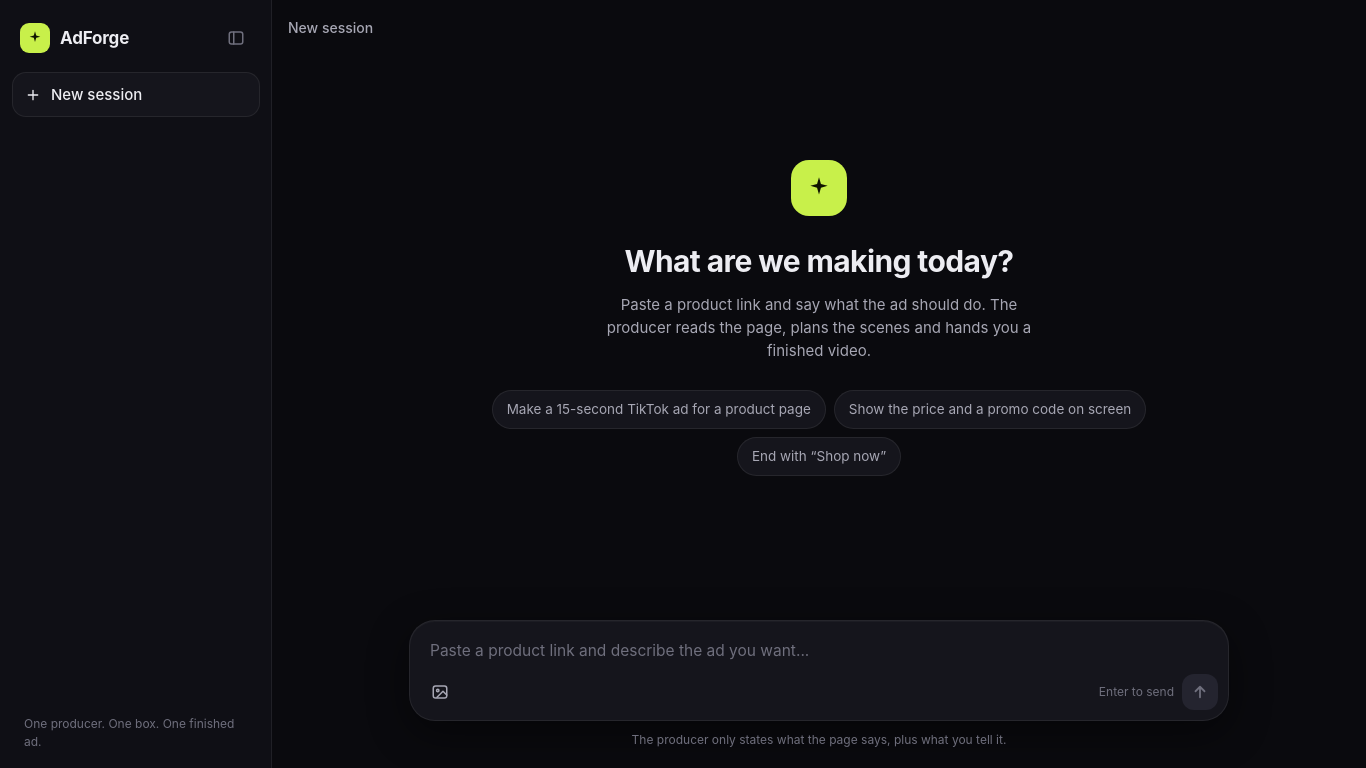
it: shows a scene's clip as it is made, after the notice that it started
Type "Make scene 1's clip" into the text box named "Message" at (819, 645), box [410,621,1228,668]
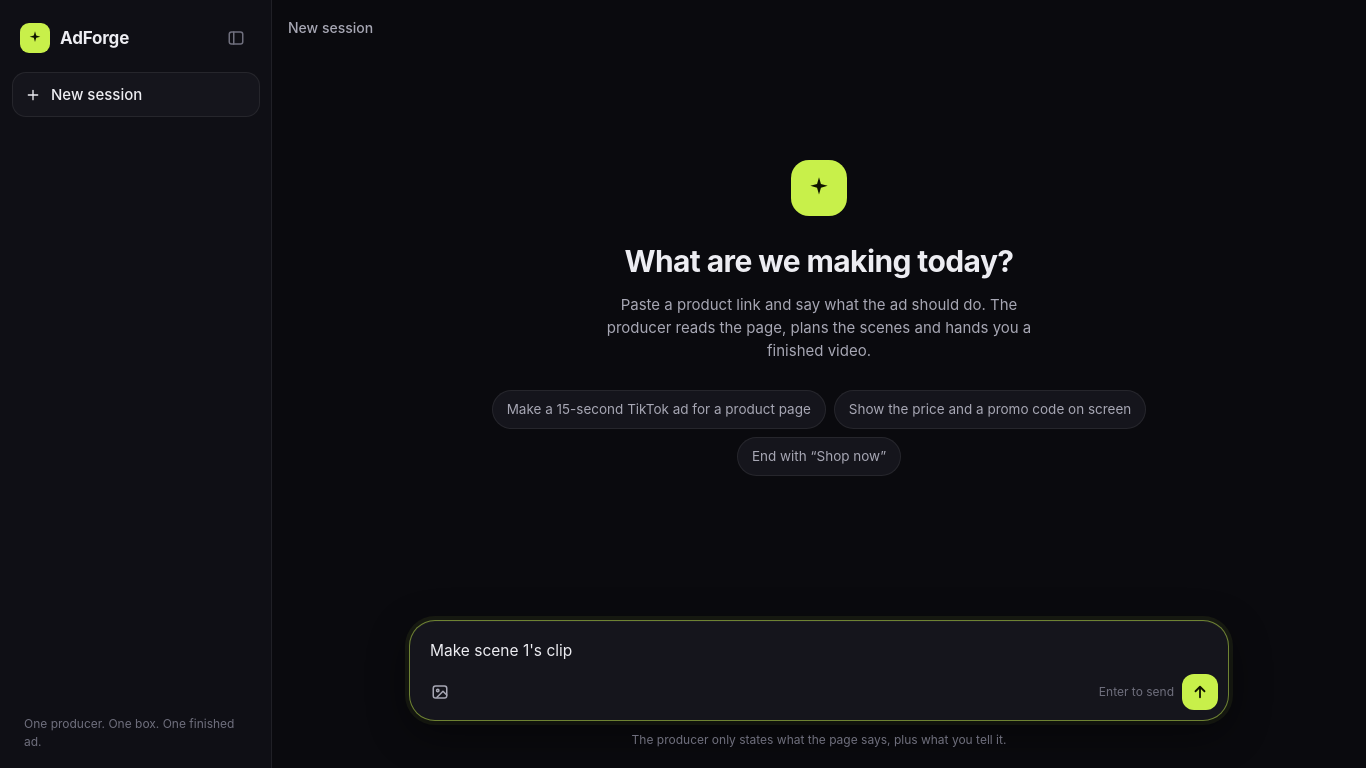
Click the button named "Send" at (1200, 692), box [1182,674,1218,710]
Wait 2000 ms
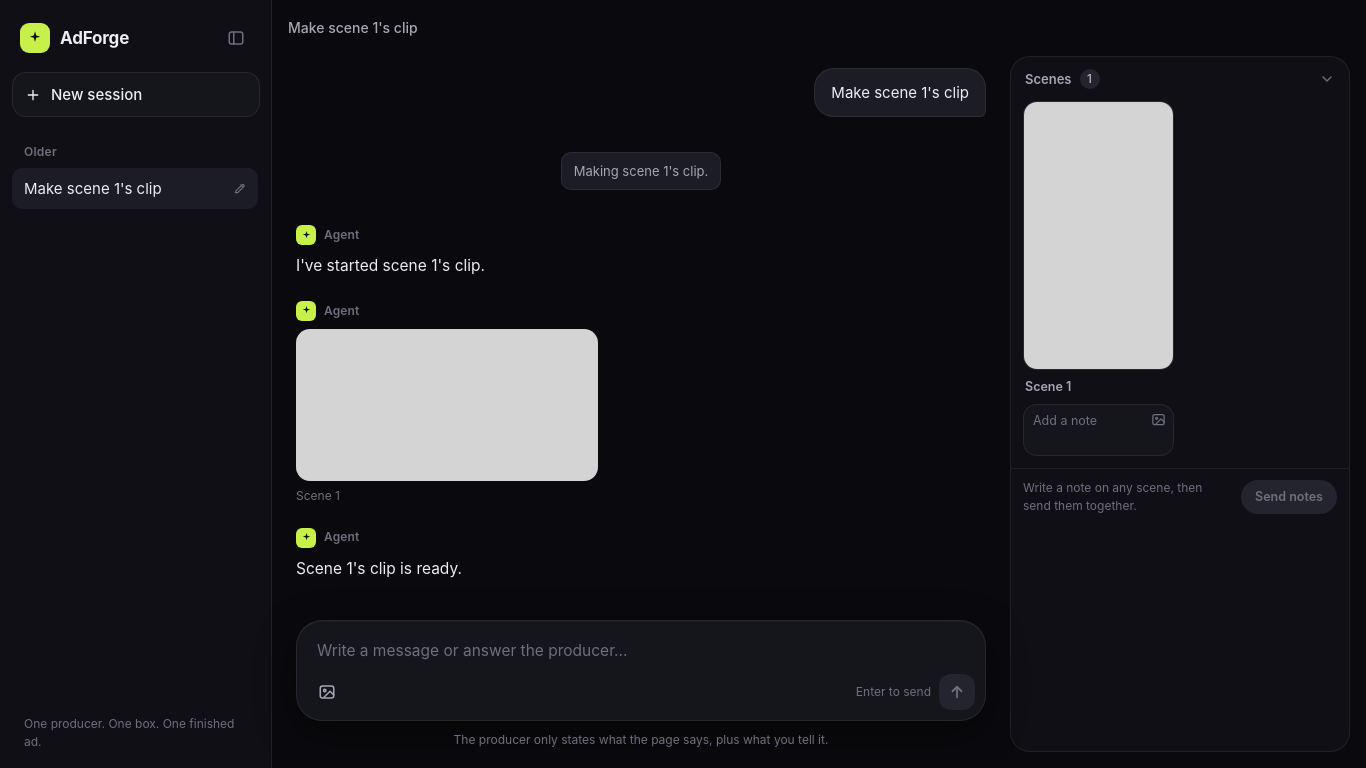
expect the text "Making scene 1's clip." is shown: met, box [561,152,721,190]
